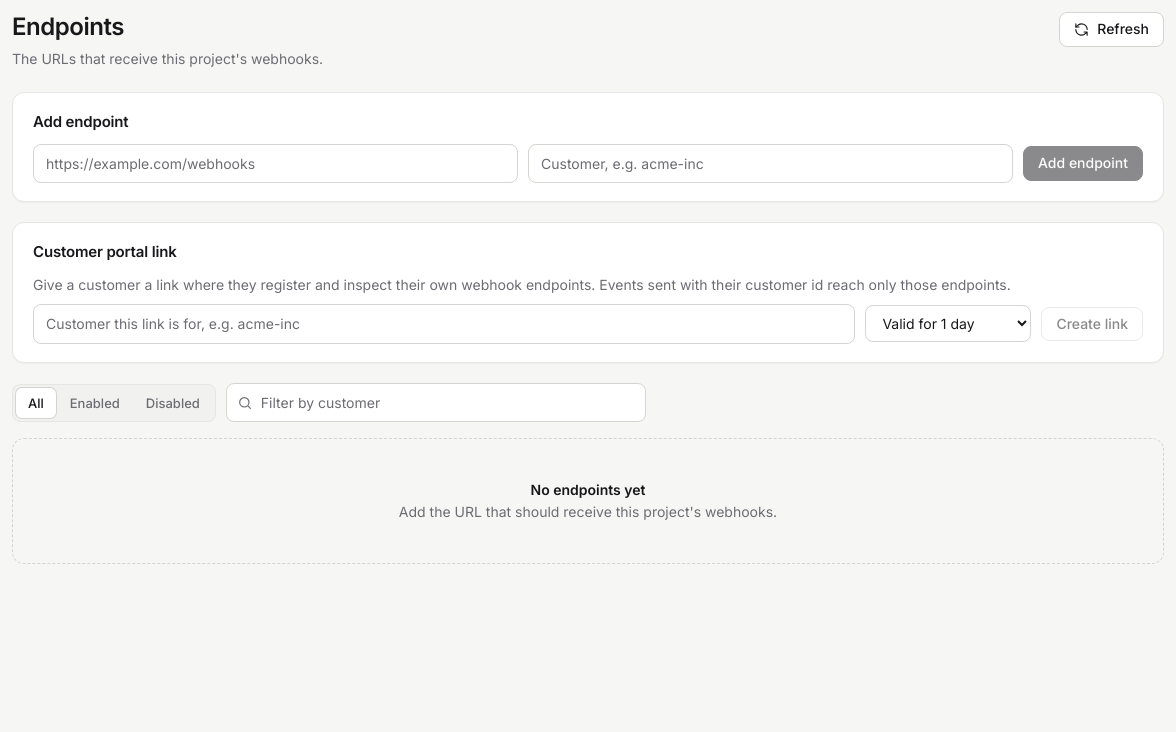
Test: EndpointsPage › explains a blocked destination
Type "https://169.254.169.254/" into the field named "Endpoint URL". click: [276, 164]
box: [33, 144, 518, 183]
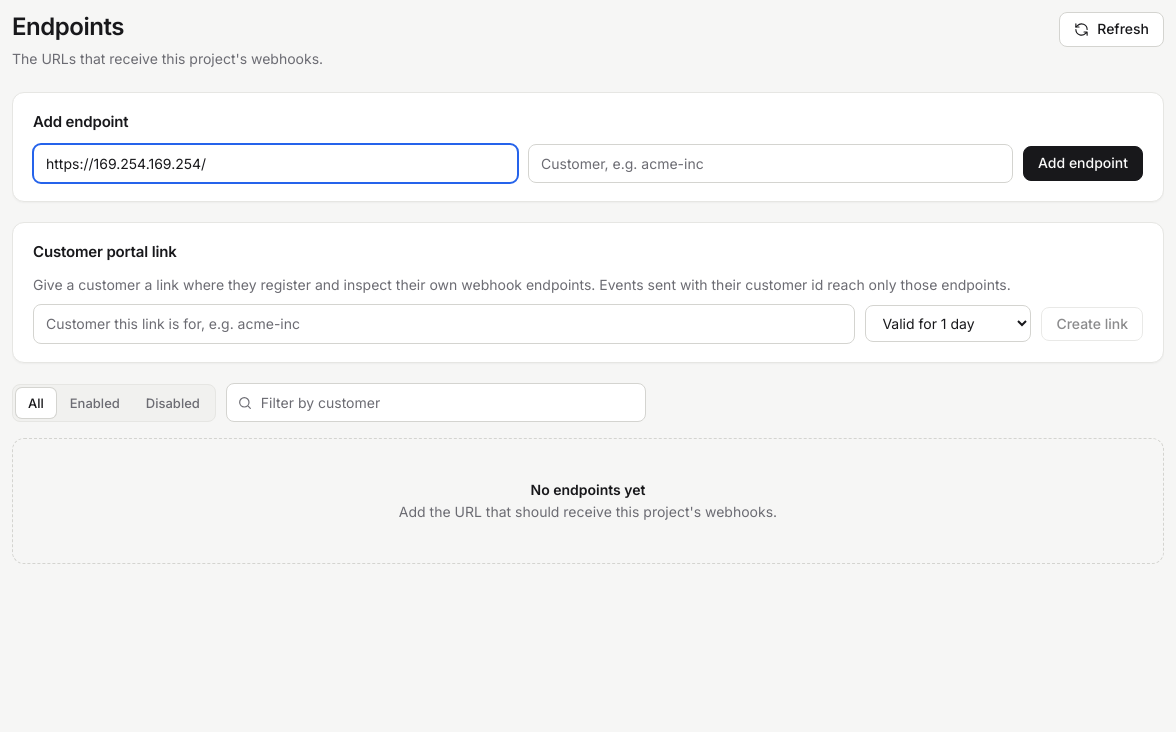
Click the button "Add endpoint". click: [1083, 164]
box: [1023, 146, 1143, 181]
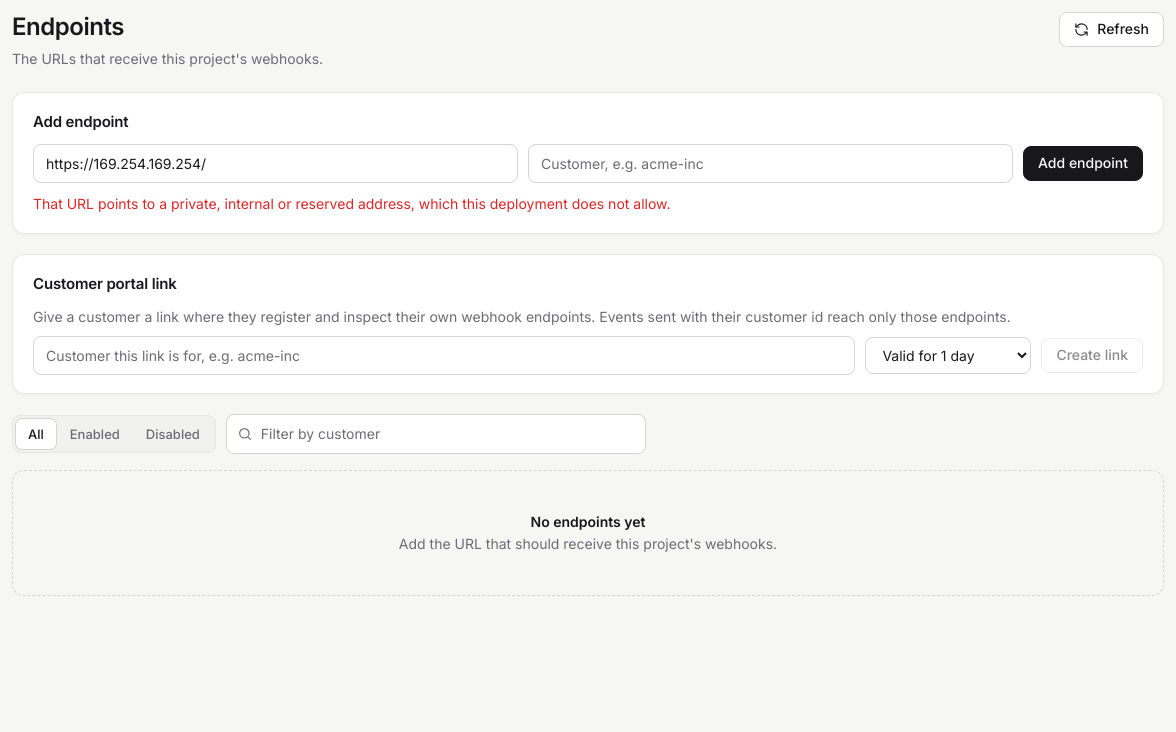
Expected: the message shows "private, internal or reserved address", [33, 195, 670, 212]
